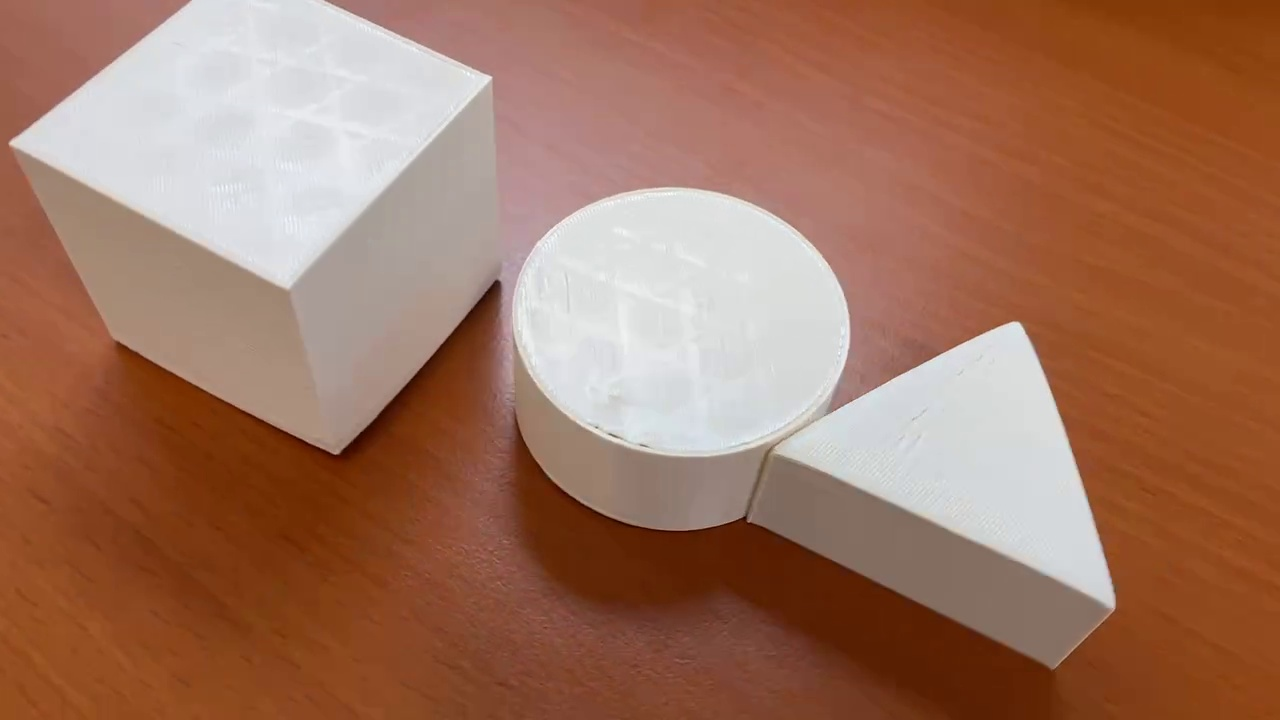Cube: (6, 1, 504, 460)
Cylinder_short: (510, 186, 850, 532)
Triangle_short: (741, 320, 1119, 669)
